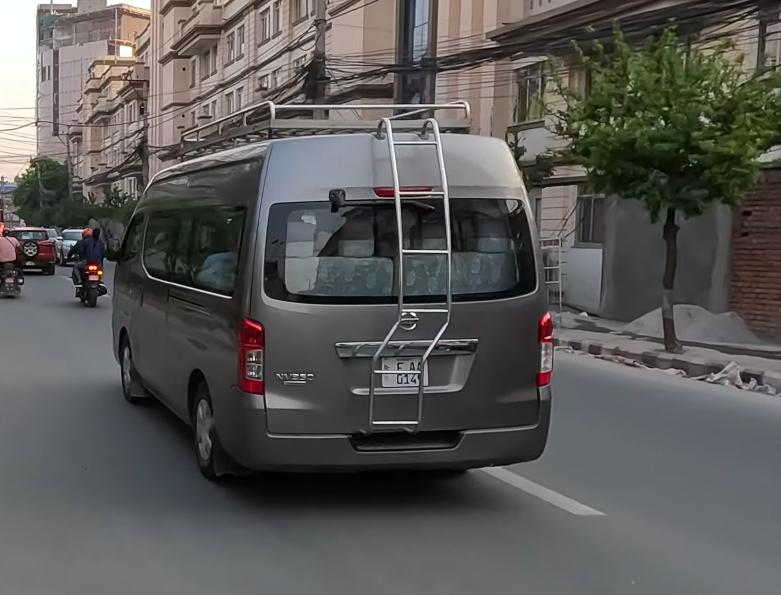bike: (71, 253, 110, 312)
car: (0, 225, 57, 278)
micro_bus: (96, 135, 578, 509)
